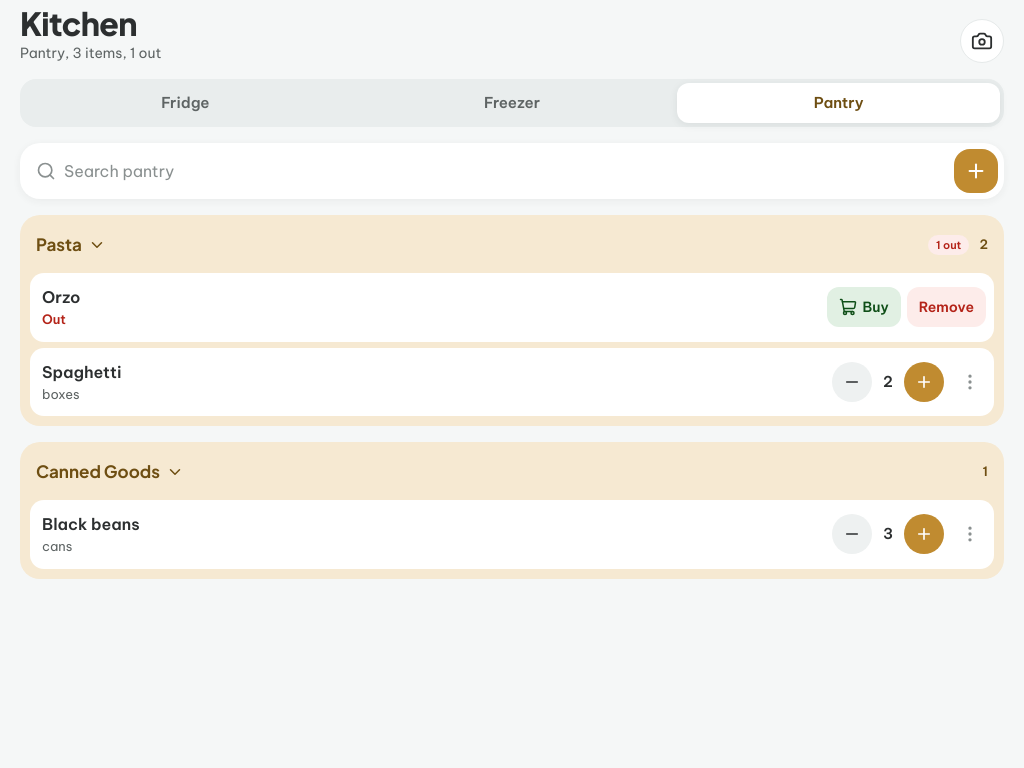
Test case: Kitchen › the edit sheet opens prefilled with the item's category, quantity and unit
The image size is (1024, 768).
Expected: the text "Black beans" is shown, [42,514,140,534]
What coordinates should you click on to do the following:
click the button named "More options for Black beans"
I would click on:
 (970, 534)
Its box is [950,514,990,554].
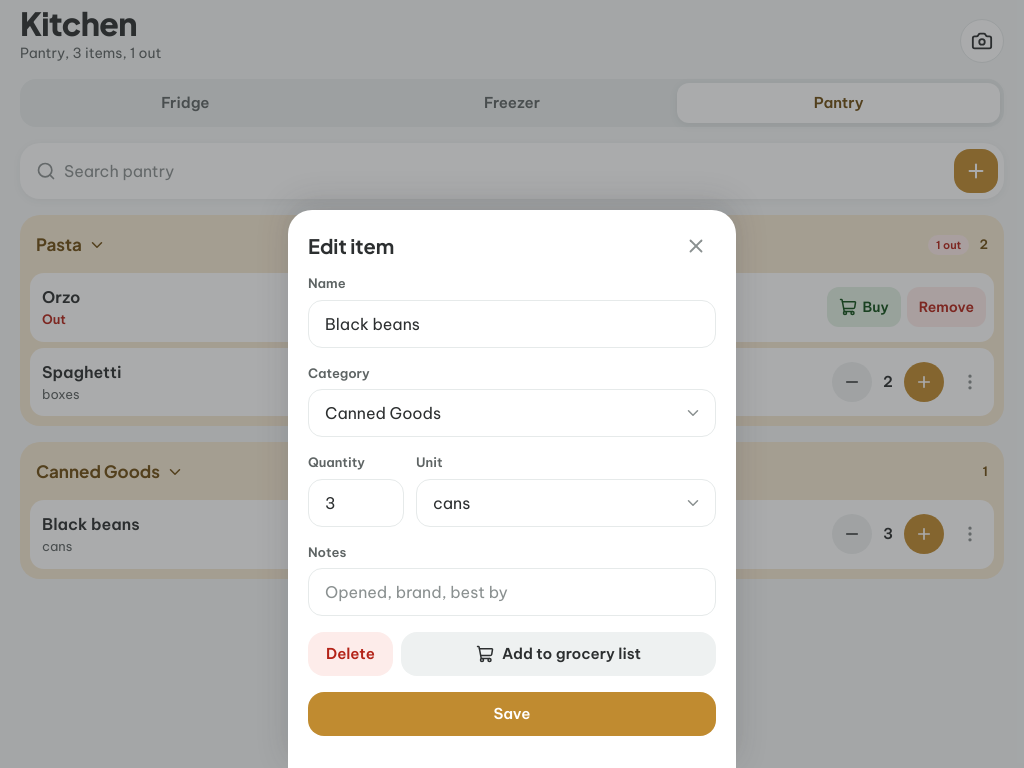
Result: the field labelled "Name" holds "Black beans" at [308,300,716,348]
Result: the dropdown labelled "Category" shows "Canned Goods" at [308,389,716,437]
Result: the number field labelled "Quantity" holds "3" at [308,478,404,526]
